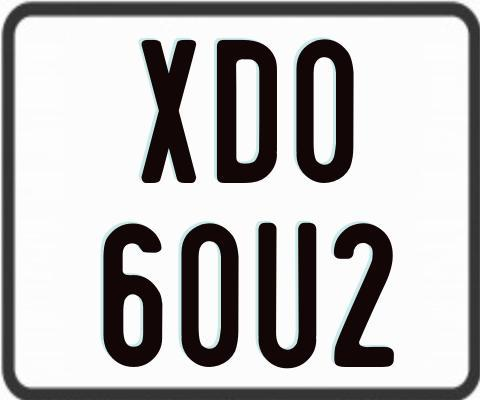0: (296, 38, 358, 186), (178, 221, 240, 365)
2: (334, 221, 394, 367)
6: (102, 222, 161, 372)
D: (217, 39, 280, 184)
U: (256, 220, 316, 370)
X: (140, 37, 200, 183)
